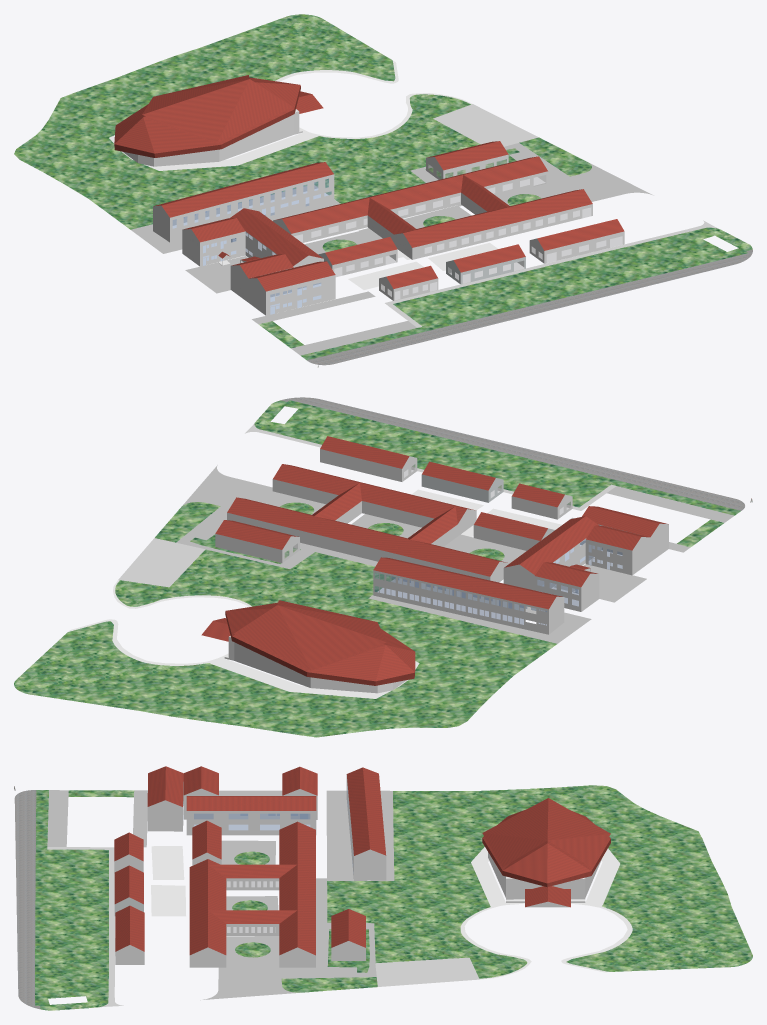
File: HoiTruongRua_AnLe.glb
3 renders of one model, top to bottom at view 1: azimuth 30°, elevation 25°; view 2: azimuth 150°, elevation 25°; view 3: azimuth 270°, elevation 25°, orthographic. The views are drawn at different scales.
Parts seen in each view (by area): view 1: Material2 (×44); view 2: Material2 (×43); view 3: Material2 (×47).
Boxes of the visible parts, left/top/right/bottom form: Material2 (×44): left=14, top=14, right=752, bottom=365; Material2 (×43): left=14, top=397, right=744, bottom=737; Material2 (×47): left=14, top=766, right=752, bottom=1010.
Bounding box in the file's own units: 6515 × 631 × 9022.
34 materials, 4 textured.
